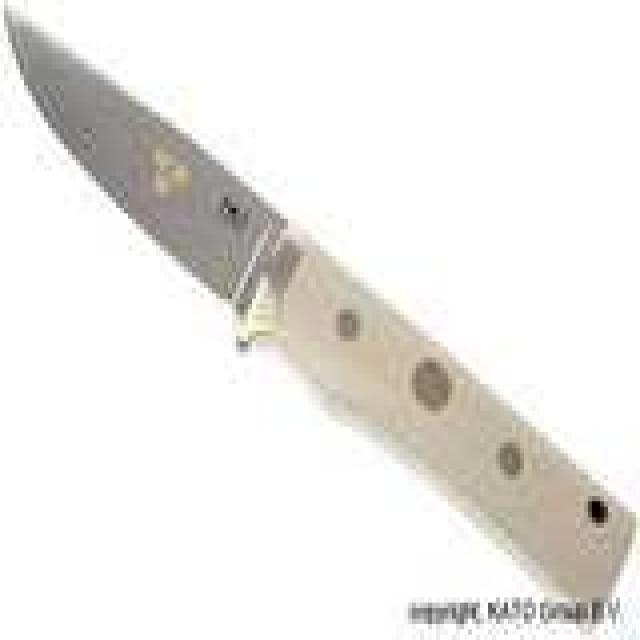Knife: (0, 7, 639, 630)
